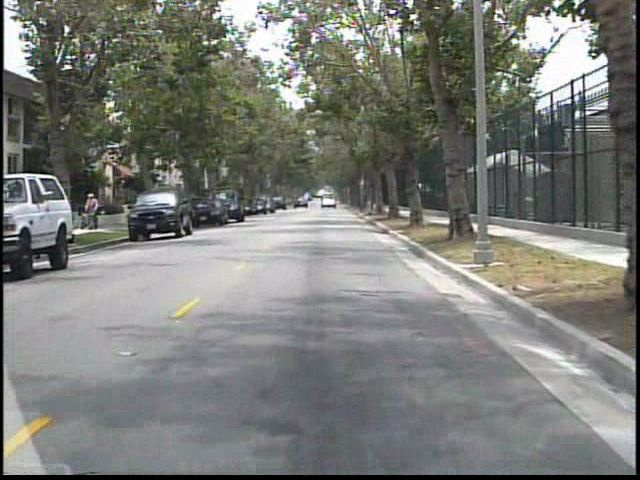person: (88, 194, 107, 233)
